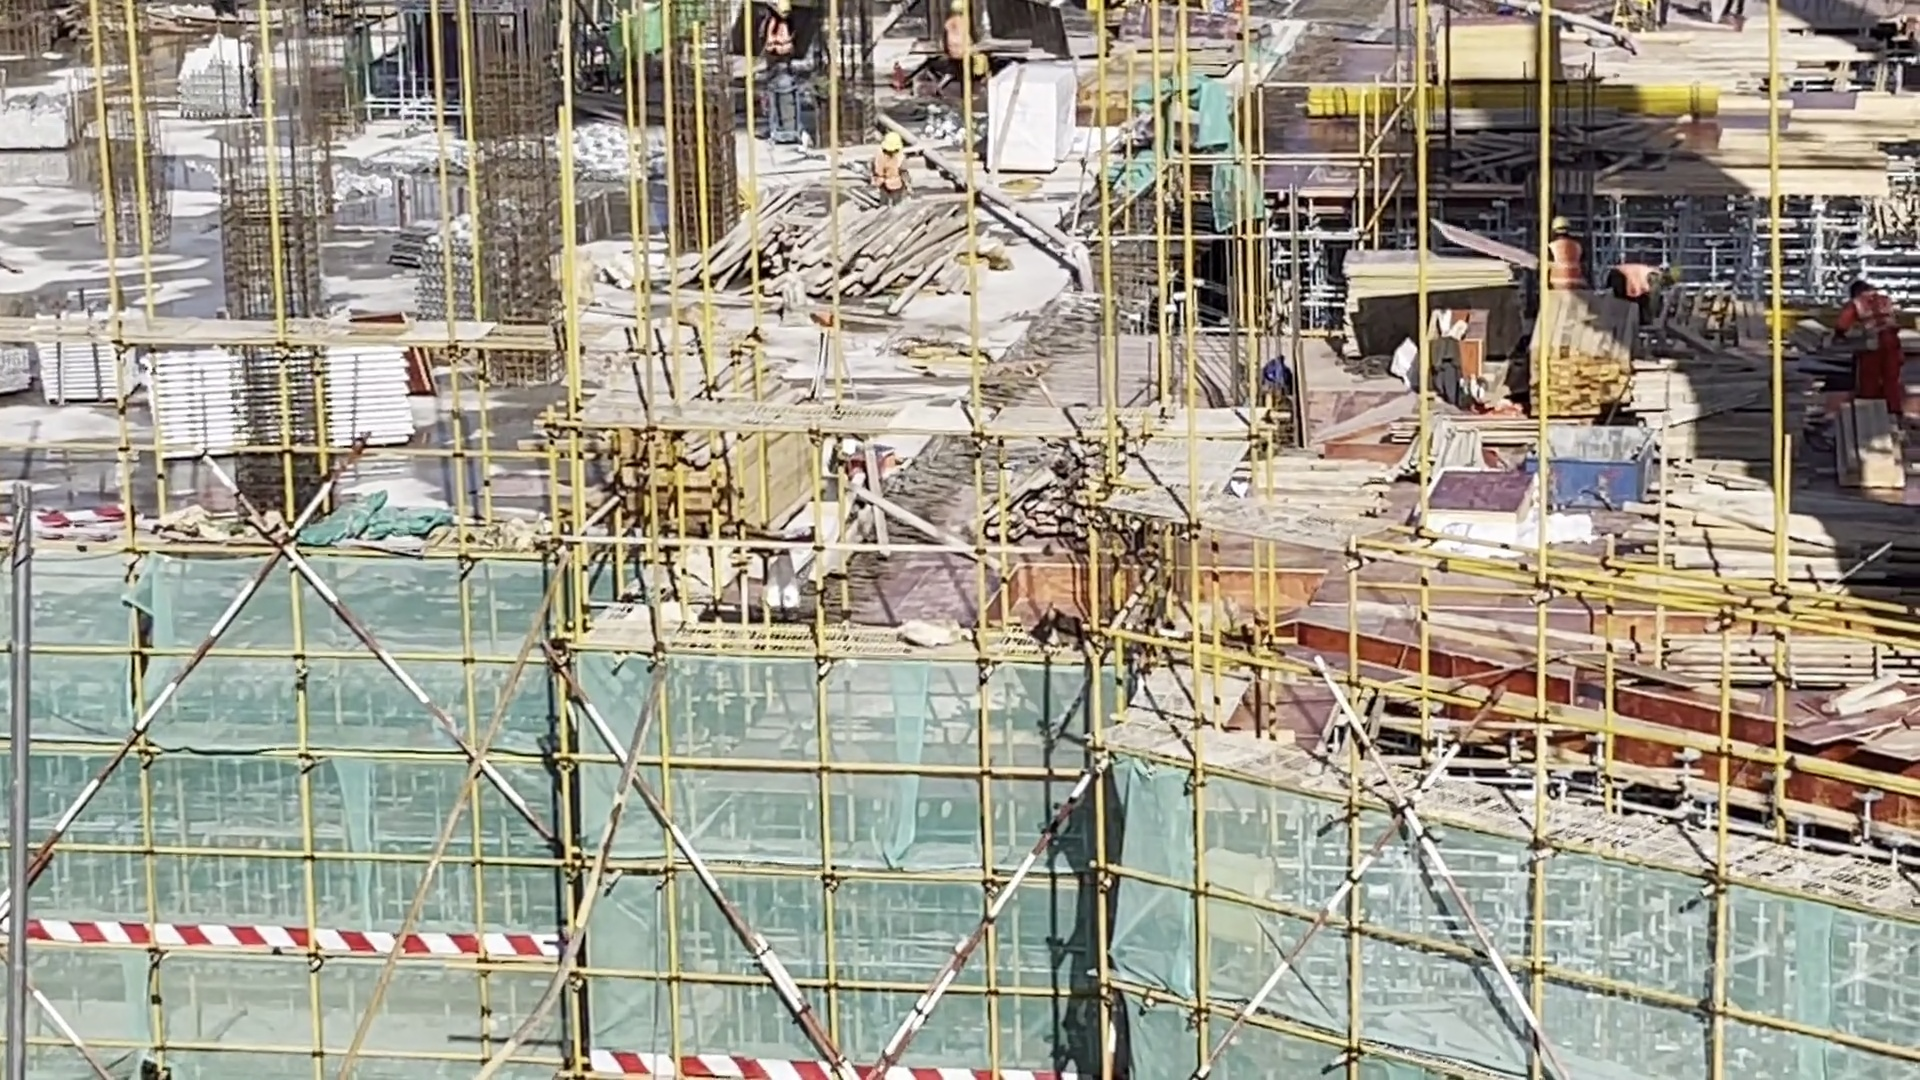helmet: (832, 441, 863, 469), (875, 129, 904, 157), (1552, 212, 1580, 238)
hopper: (1532, 415, 1643, 498)
person: (1806, 270, 1920, 429), (1537, 204, 1601, 294), (1604, 254, 1679, 326), (830, 439, 902, 494), (867, 128, 910, 194), (946, 1, 976, 88), (763, 1, 798, 74)
scaffold: (137, 335, 445, 449), (23, 301, 138, 402)
vest: (1547, 238, 1586, 284), (1614, 261, 1652, 297), (871, 158, 900, 188)
wood: (1652, 450, 1895, 597), (726, 183, 1010, 301), (602, 405, 817, 541), (1649, 630, 1920, 699), (1525, 297, 1628, 412)
